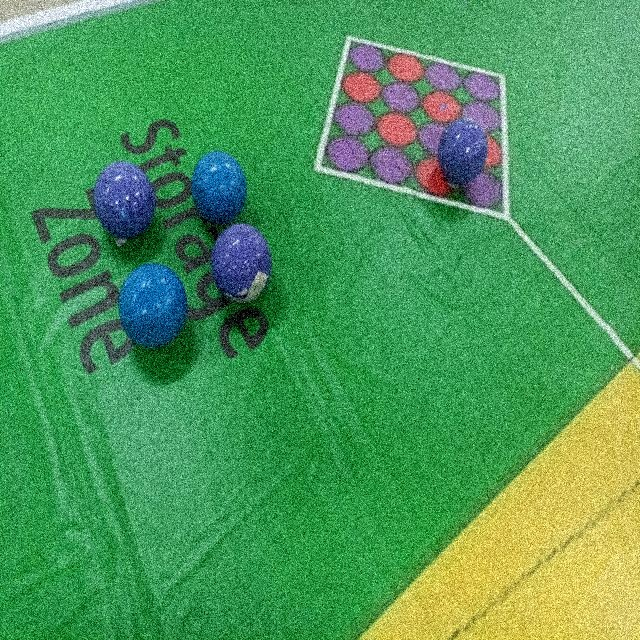blue_ball: (115, 261, 191, 348), (188, 148, 248, 225)
purple_ball: (208, 222, 273, 306), (92, 160, 156, 242), (437, 118, 489, 186)
